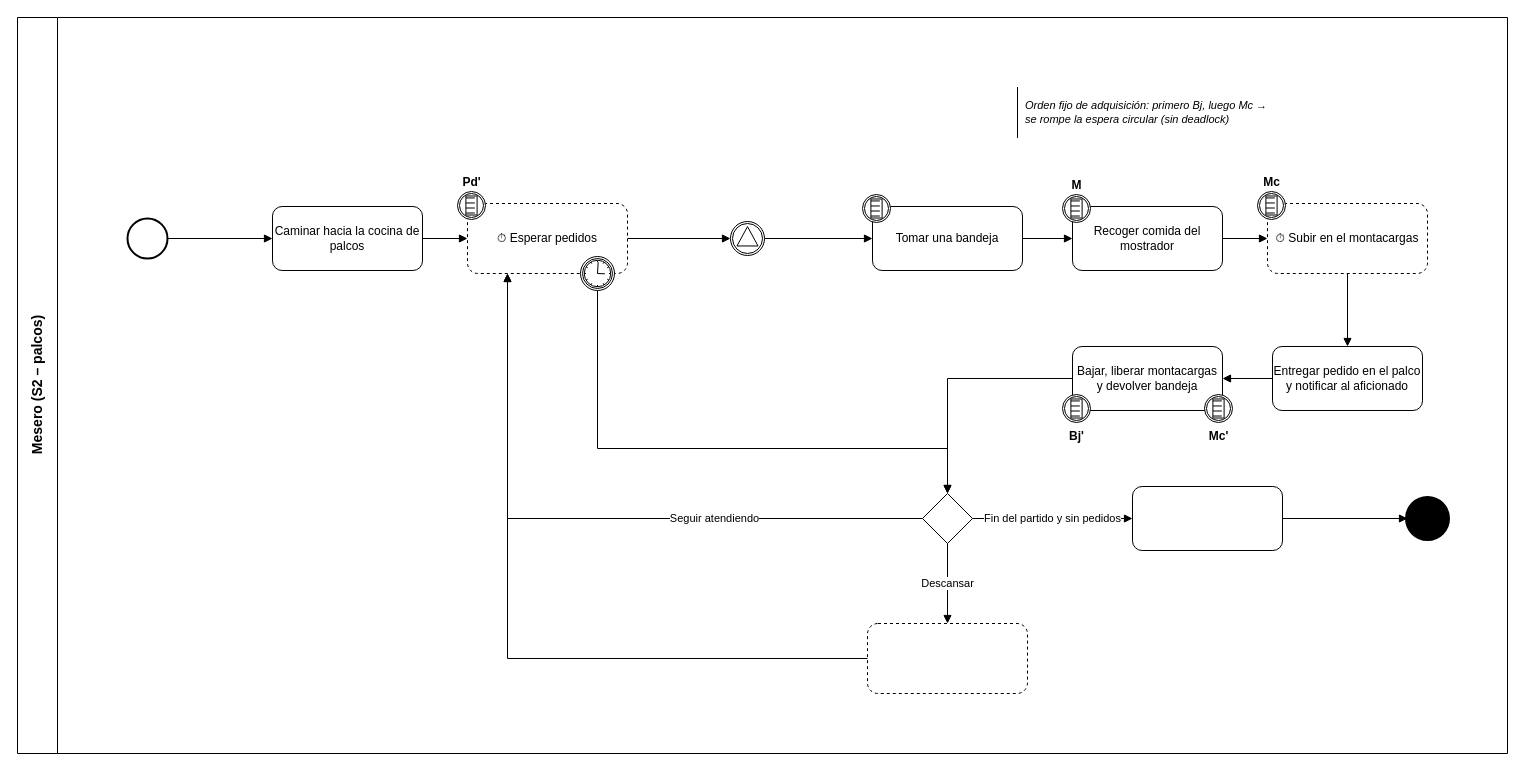
This 1525x771 diagram has some shape labels left out. Each missing label, with the centre of its shape:
Bj: the point at 876,208
Caminar para salirse: the point at 1207,518
Llega pedido: the point at 747,238
Sin pedidos: the point at 597,273
Zona de decisión: the point at 947,518
⏱ Tomar un descanso: the point at 947,658
